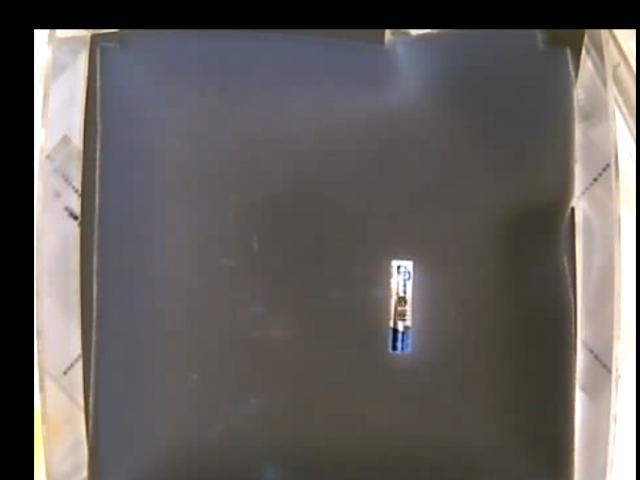Battery: (383, 260, 415, 356)
